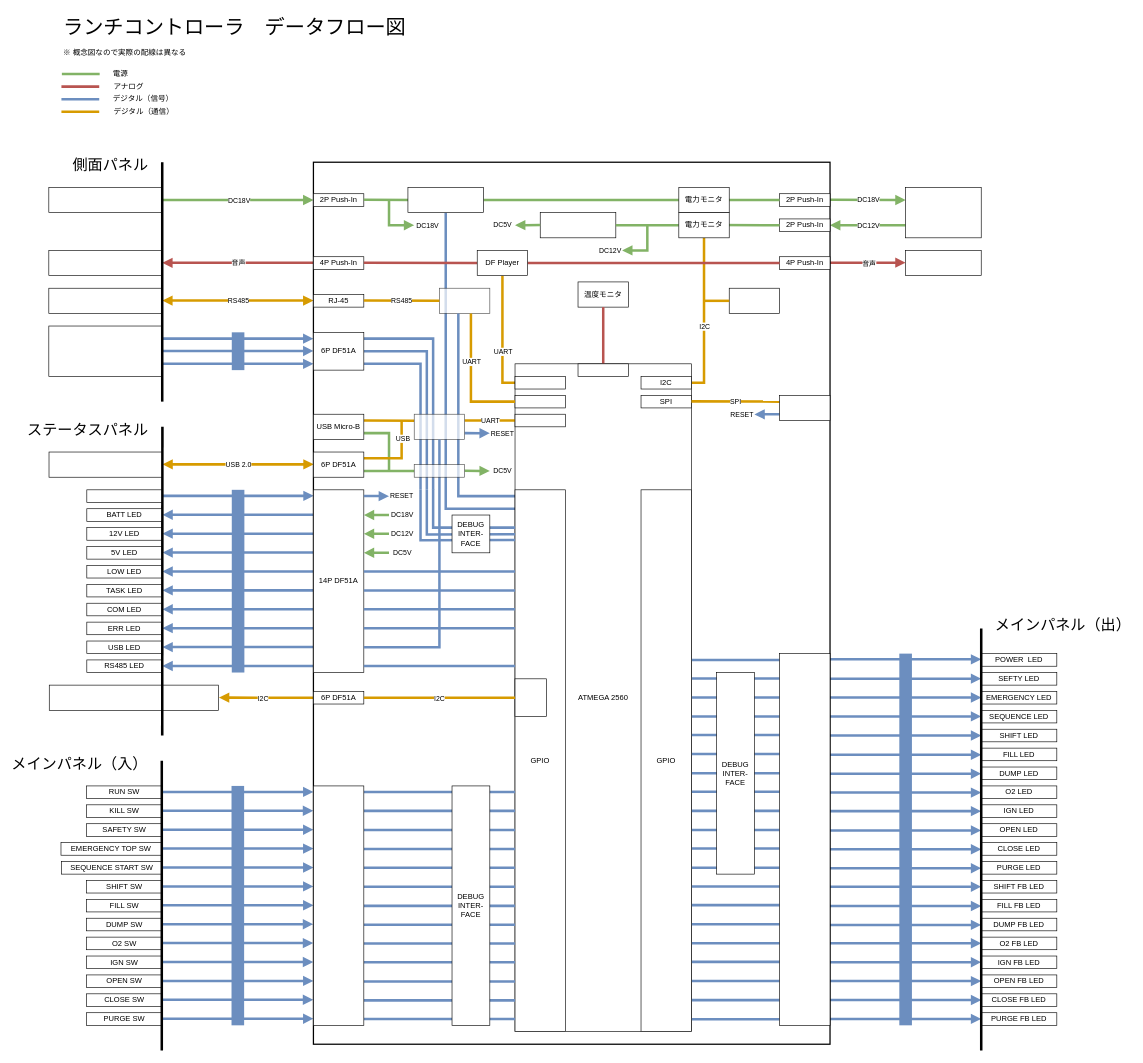
This 1143x1063 diagram has some shape labels left out. The shapes that lost their labels are listed below. From the top down, each one's box as (x1, y1, x2, y2) in pixels, then its label:
(48, 187, 162, 213): 電源入力 2.1mm DCジャック
(407, 187, 484, 213): ロードスイッチ
(905, 187, 981, 238): DC/DCコンバータ 18V/12V
(540, 212, 616, 238): DC/DCコンバータ 12V/5V
(48, 250, 162, 276): 音声出力 3.5mm ステレオミニジャック
(905, 250, 981, 276): 内部スピーカー
(48, 288, 162, 313): ランサテ通信 RJ-45 モジュラージャック
(439, 288, 490, 313): RS485 トランシーバ
(729, 288, 780, 313): EEPROM
(48, 325, 162, 376): 充填確認スイッチ 4P なんか
(577, 363, 628, 376): ADC
(514, 376, 565, 389): UART2
(514, 395, 565, 408): UART1
(414, 414, 465, 439): FT232RL
(514, 414, 565, 427): UART0
(779, 395, 830, 421): ICSP
(48, 451, 162, 477): PC通信 USB Type-B レセプタクル
(414, 464, 465, 477): FUSE
(86, 489, 162, 502): RESET SW
(49, 684, 163, 710): N2O圧力表示 4桁7セグメントディスプレイ
(161, 684, 219, 710): 制御IC
(514, 678, 547, 717): SOFT- WARE I2C
(779, 653, 830, 1025): 22P DF51A
(313, 785, 364, 1025): 18P DF51A
